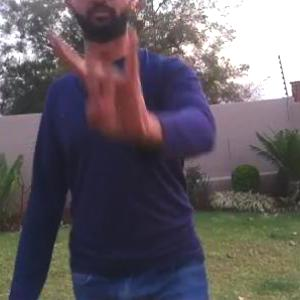takeoff-hand: (45, 13, 150, 140)
